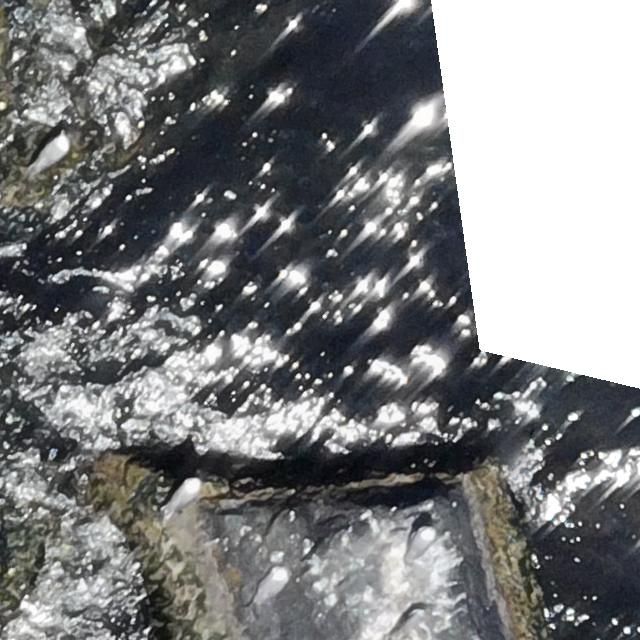umineko: (252, 563, 290, 610), (157, 476, 203, 514), (404, 525, 440, 567), (33, 131, 67, 174)
